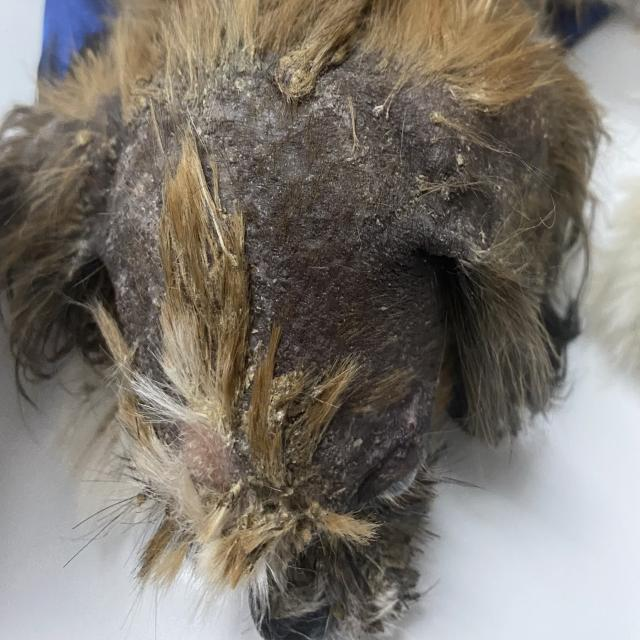demodicosis: (237, 74, 535, 259), (66, 84, 233, 404), (261, 267, 425, 542)
